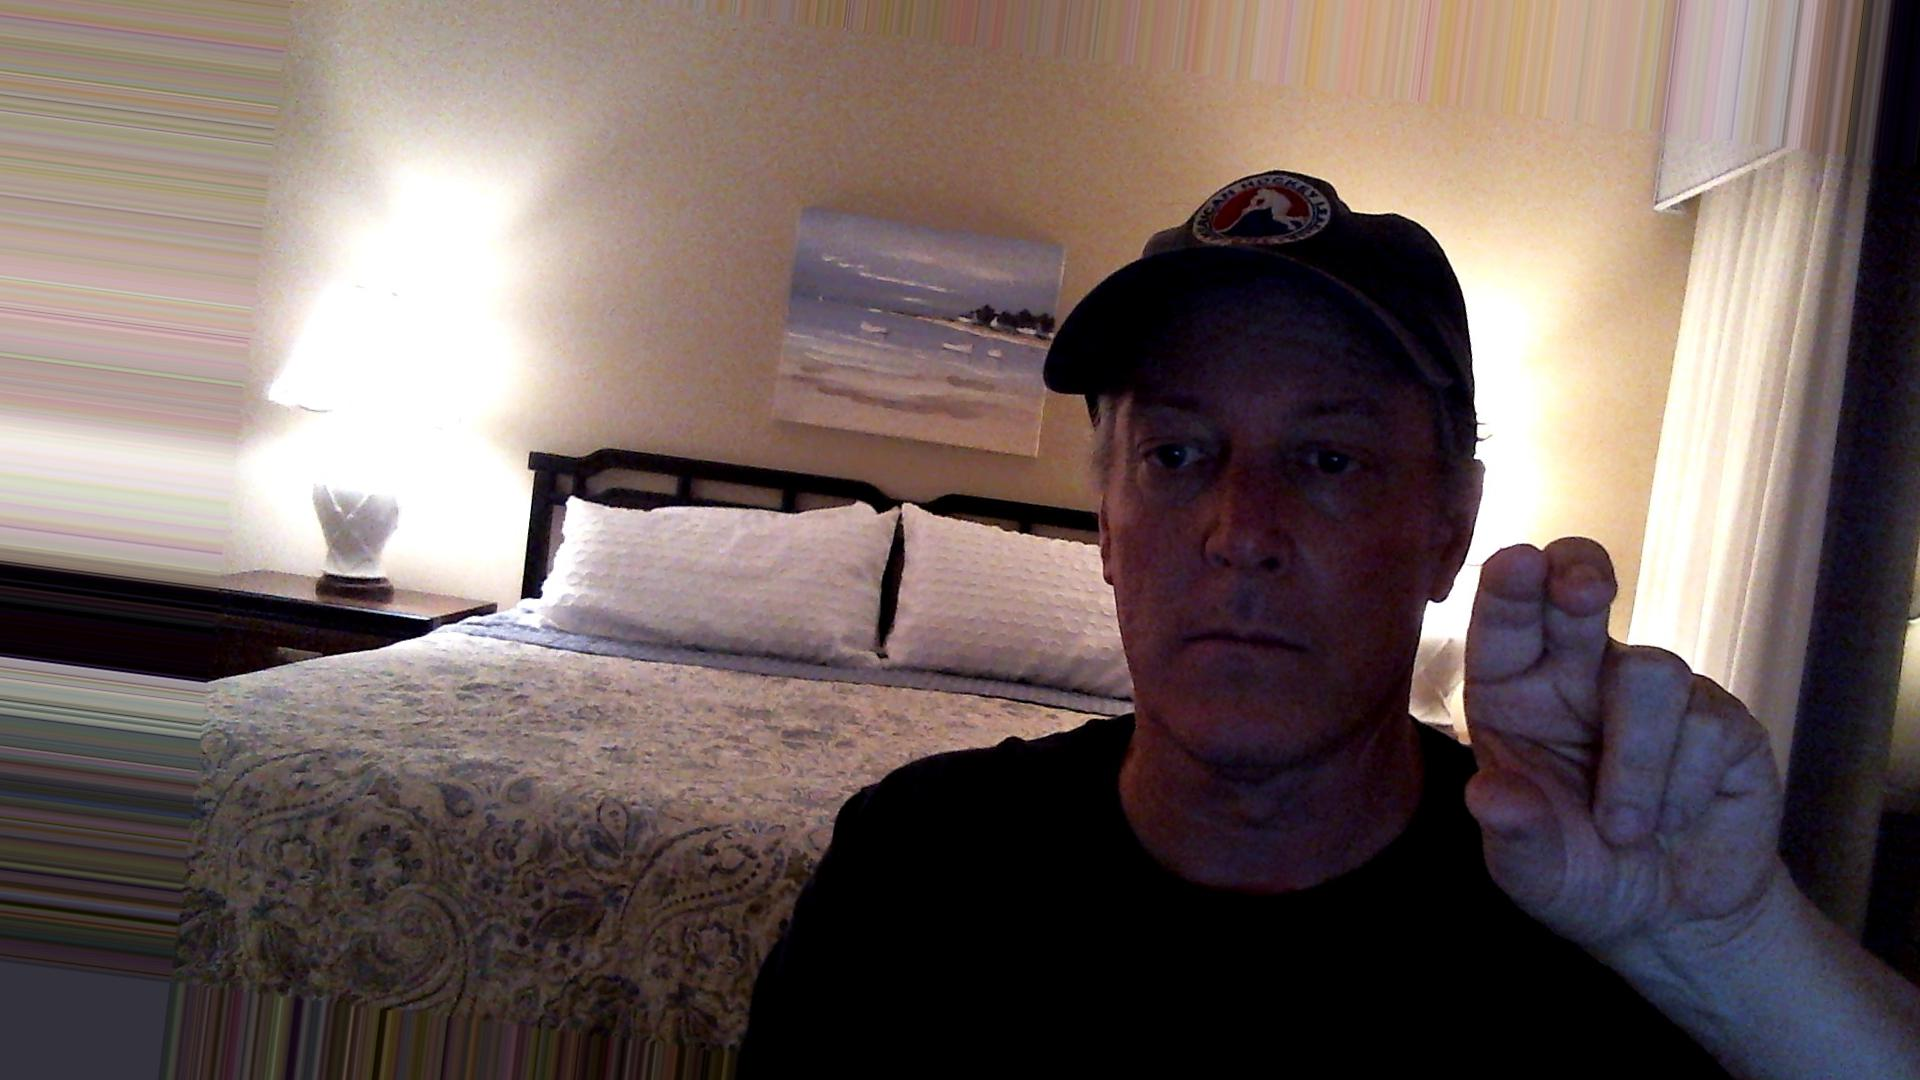No: (1423, 510, 1803, 963)
